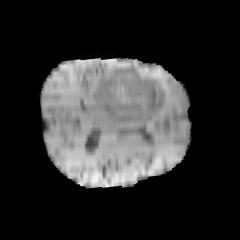glioma: (93, 65, 167, 123)
